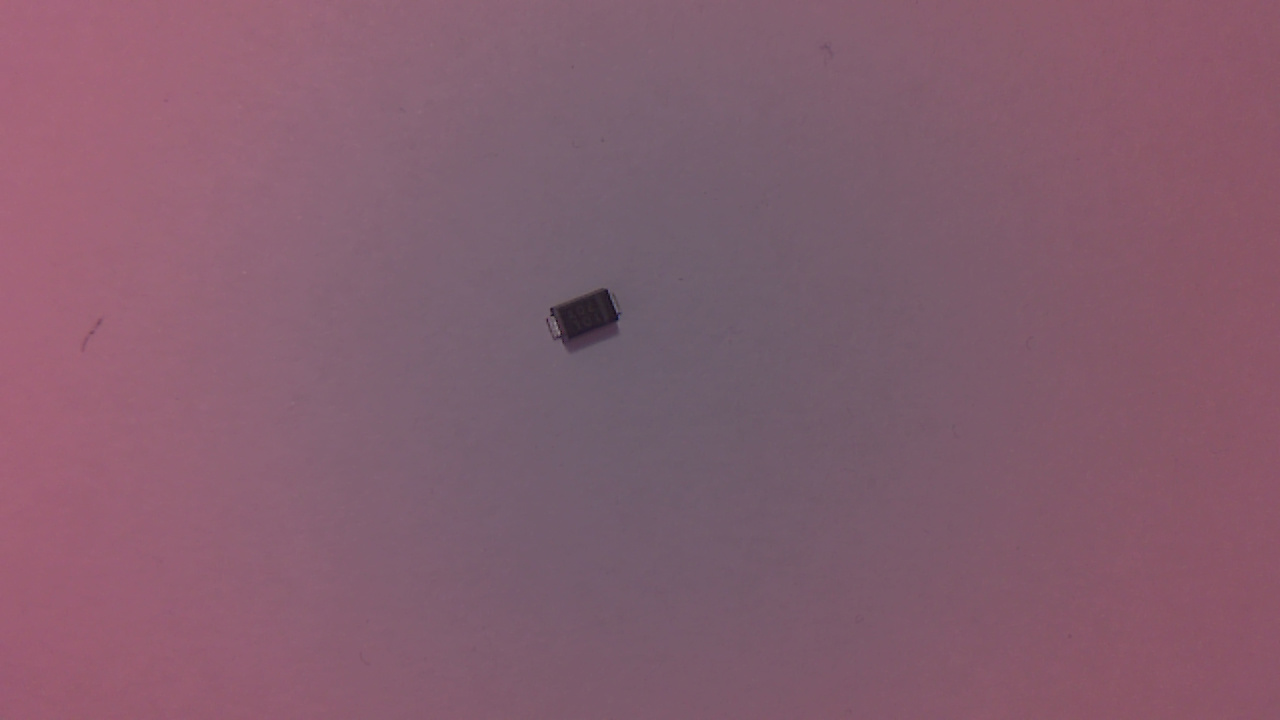Diode: (549, 291, 628, 354)
